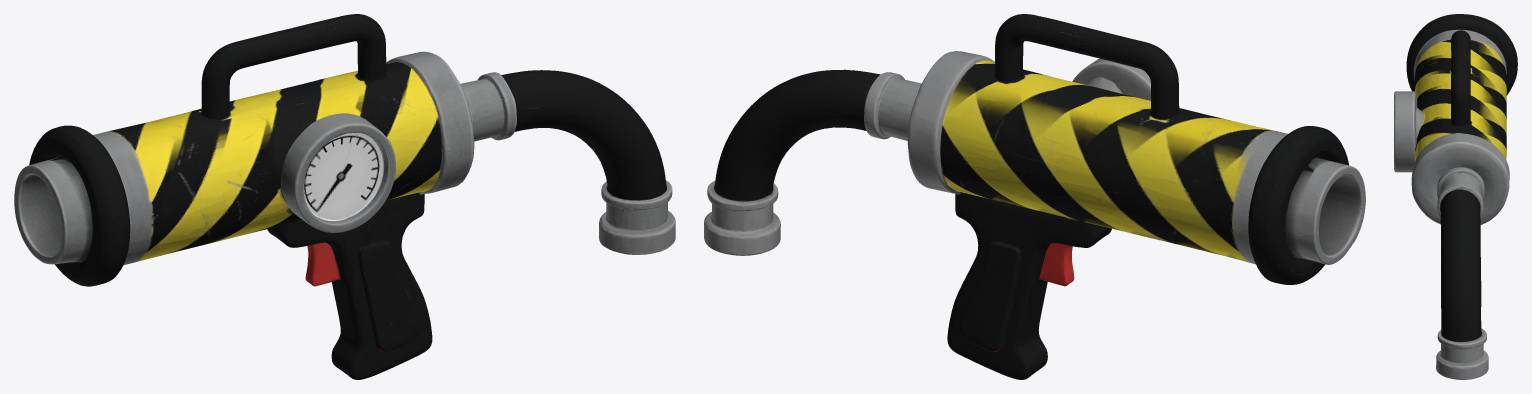
File: lancia_c_industriale.glb
The picture shows the model from 3 angles, left to right: view 1: azimuth 30°, elevation 25°; view 2: azimuth 150°, elevation 25°; view 3: azimuth 270°, elevation 25°; orthographic projection. The views are drawn at different scales.
Parts seen in each view (by area): view 1: Mesh_0; view 2: Mesh_0; view 3: Mesh_0.
Boxes of the visible parts, <box> form: Mesh_0: <box>14,14,675,379</box>; Mesh_0: <box>704,14,1365,379</box>; Mesh_0: <box>1394,14,1517,379</box>.
Size of the model in its own units: 1.9 by 1.03 by 0.4694.
1 material, 1 textured.
